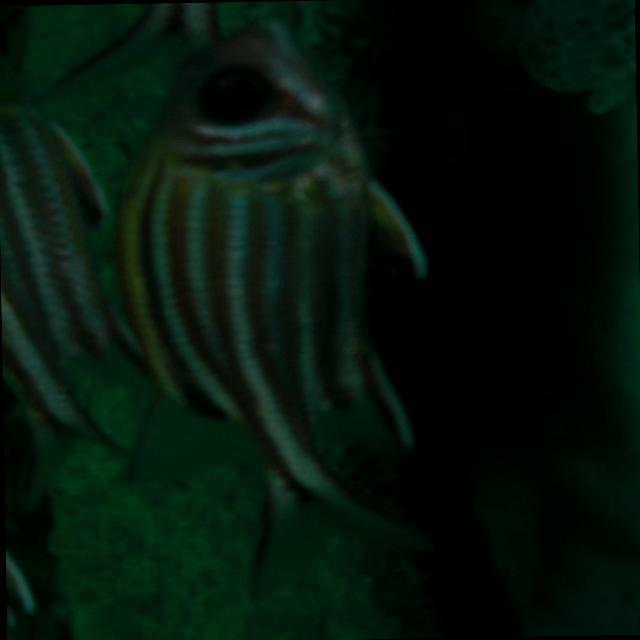Asker Baligi: (0, 5, 441, 606)
